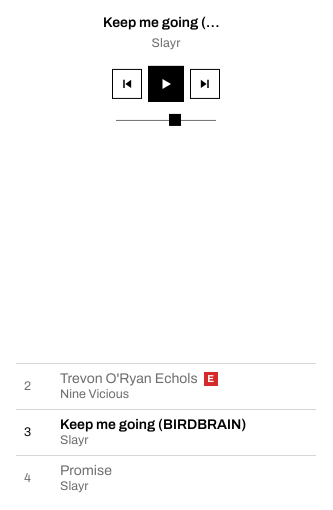
Test: AudioRing › playback › plays on press and offers pause while playing
Click the button named "Play": (166, 84) [148,66,184,102]
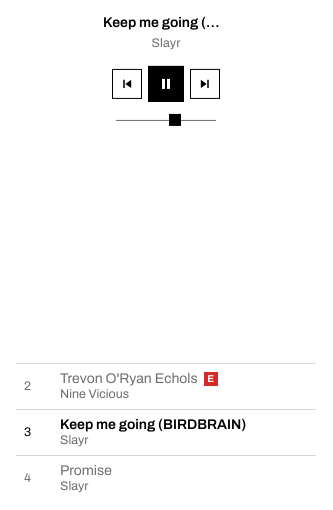
Expected: the button named "Pause" is shown, [148,66,184,102]
